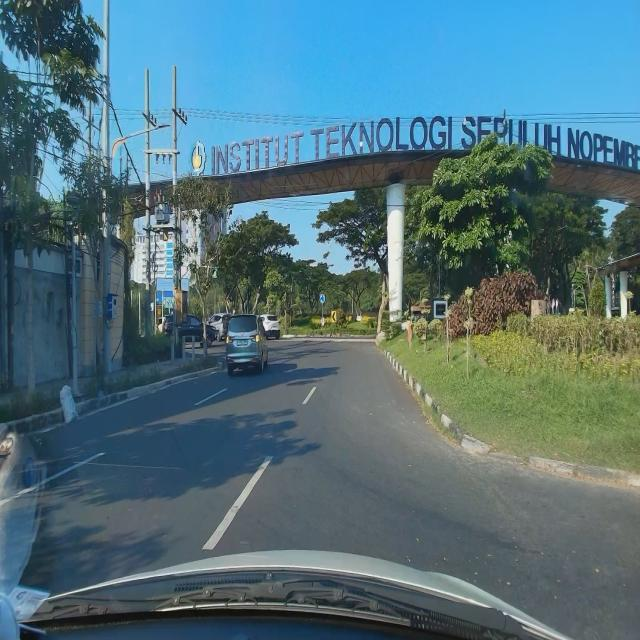car: (225, 312, 269, 378)
license-plate: (237, 339, 247, 346)
